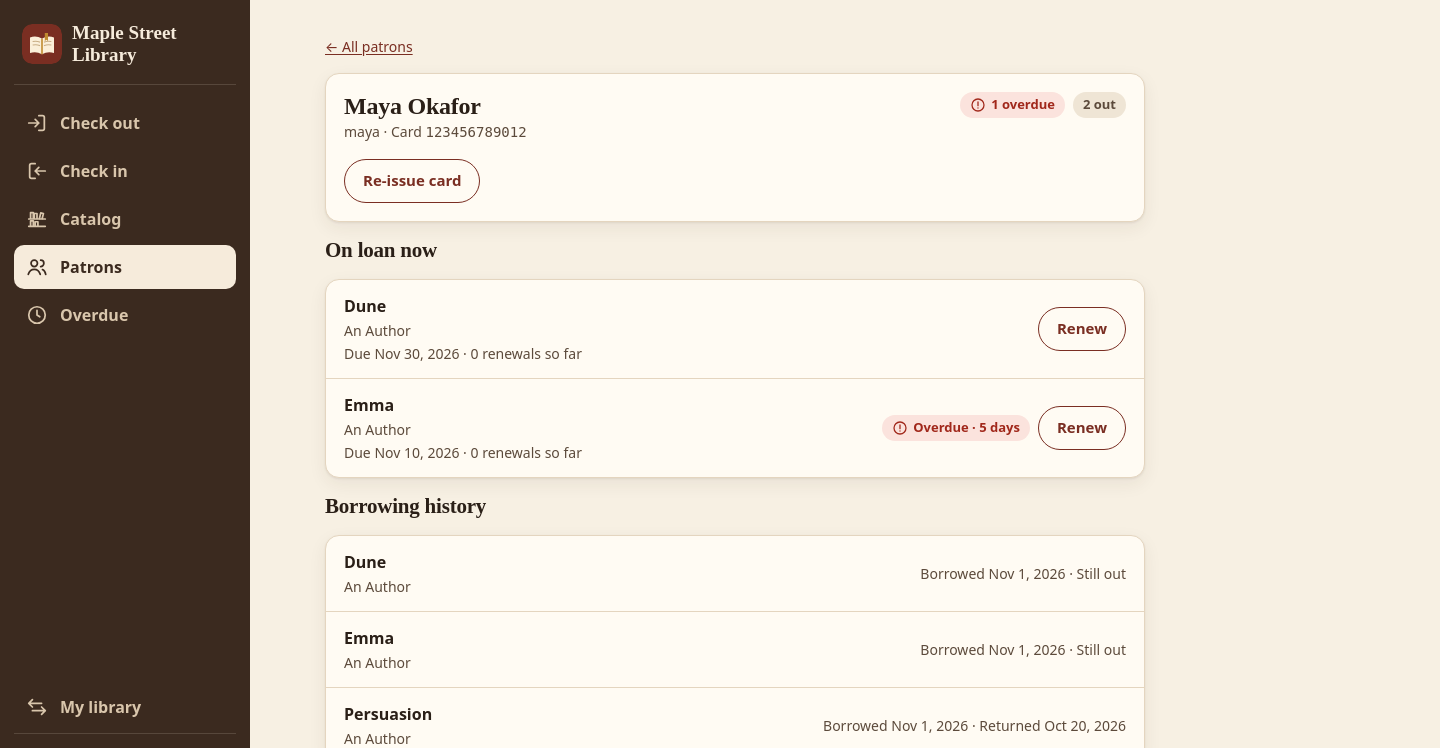
CIRC-5 Renewals › Librarian renews: the loan is renewed and the page shows the new due date
The width and height of the screenshot is (1440, 748).
Click the button with aria-label "Renew Dune". click: (1082, 329)
box: x1=1038 y1=307 x2=1126 y2=351
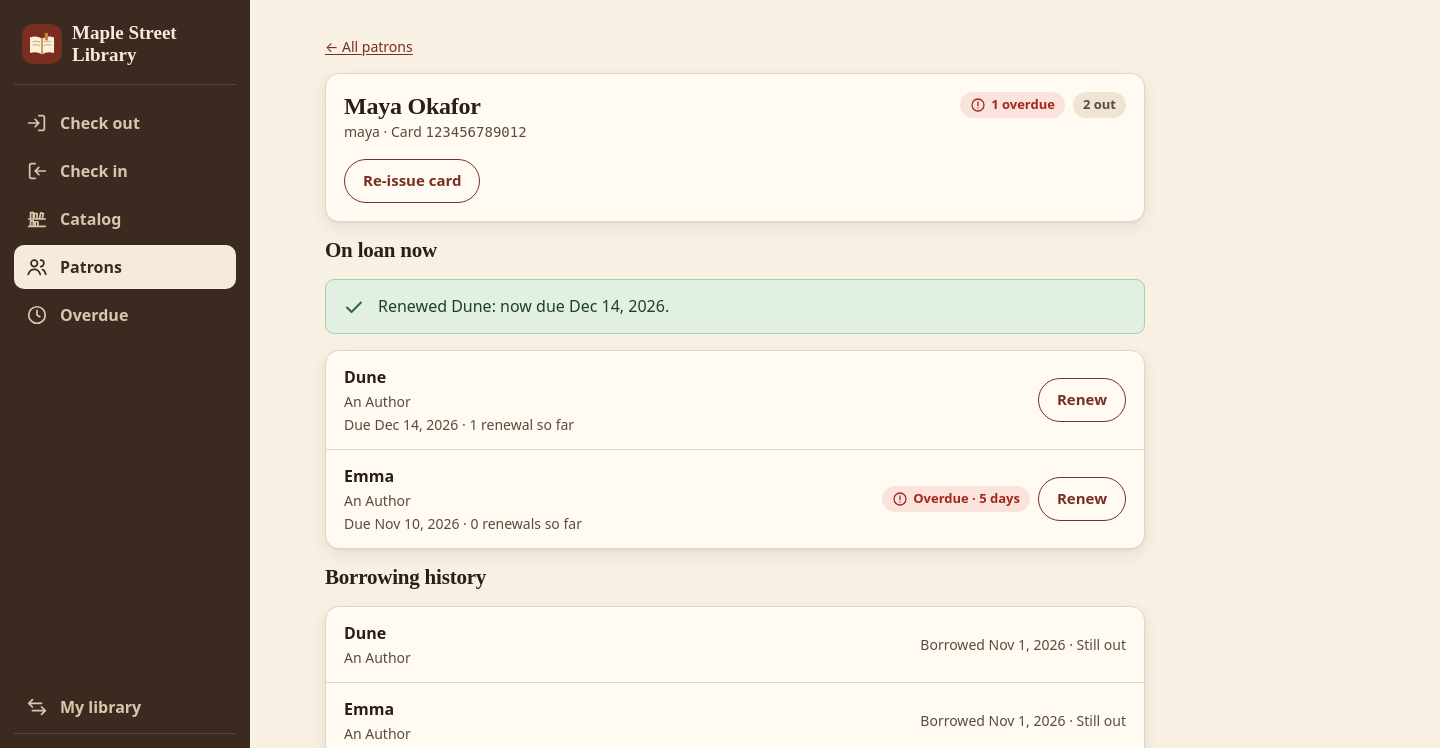
Expected: the text "Renewed Dune: now due Dec 14, 2026." is shown, x1=378 y1=294 x2=669 y2=318
Expected: the text "Due Dec 14, 2026 · 1 renewal so far" is shown, x1=344 y1=415 x2=574 y2=434
